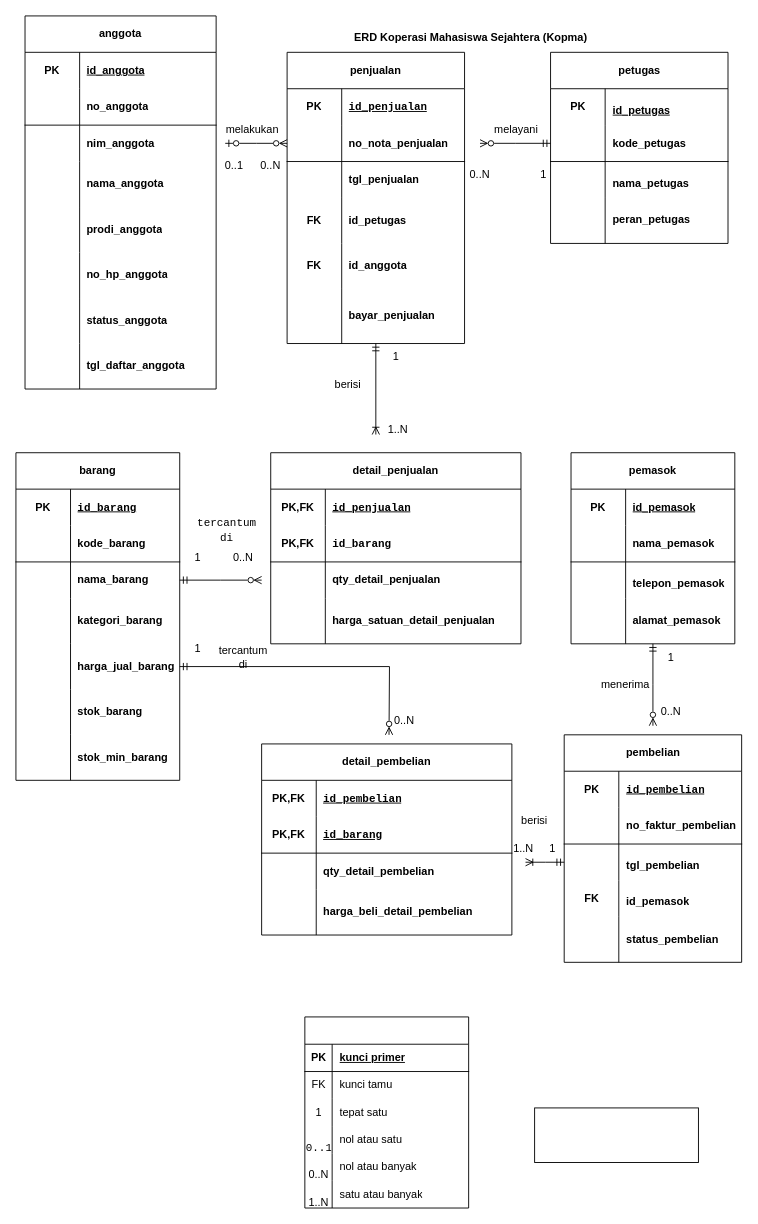
The diagram is 758 pixels wide and 1224 high, and some of its shapes have lost their labels. Each missing label, with the box of its shape:
kotak legenda: (304, 1016, 469, 1208)
Nama : Hamid indra Nugroho NIM : 25430029: (534, 1107, 698, 1163)
